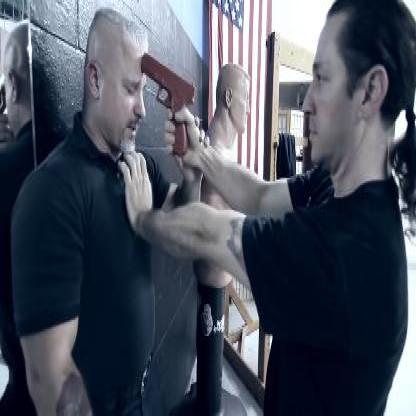pistol: (140, 51, 196, 156)
